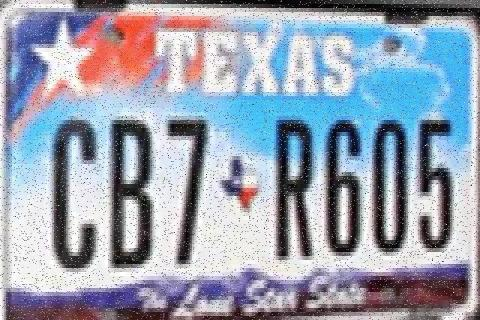LicensePlate: (0, 1, 478, 317)
